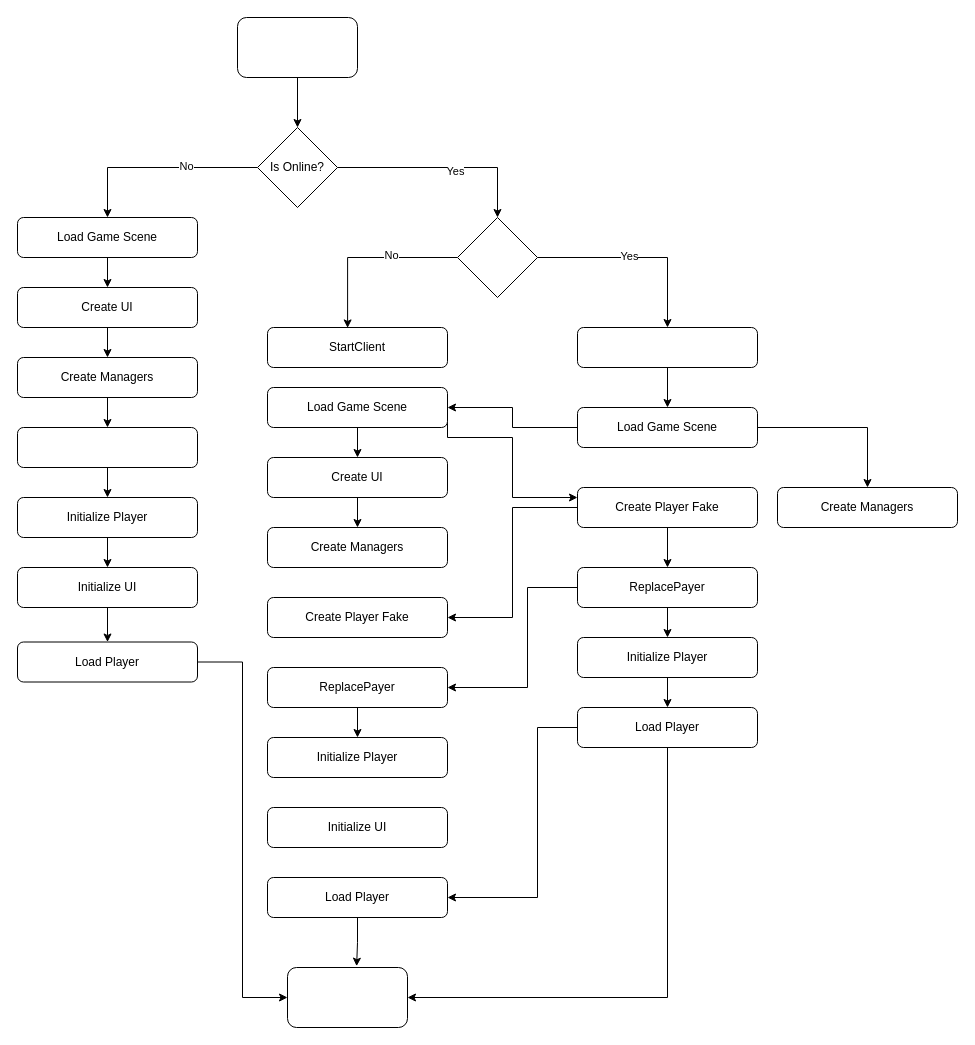
Image size: 975x1045. Some labels were removed from this diagram. The centre of each missing label's shape, as x and y in pixels:
Create Player: (x=107, y=447)
Game Start: (x=347, y=997)
Is Server?: (x=497, y=257)
Load Game: (x=297, y=47)
StartSever: (x=667, y=347)
